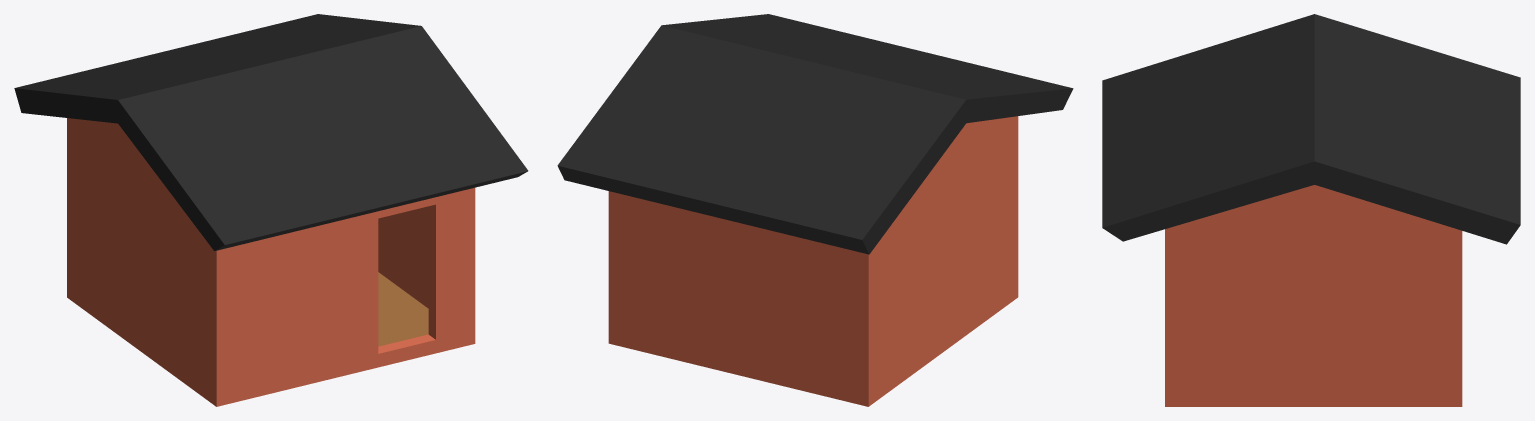
The model's file is house.fbx.
The picture shows the model from 3 angles, left to right: view 1: azimuth 30°, elevation 25°; view 2: azimuth 150°, elevation 25°; view 3: azimuth 270°, elevation 25°; orthographic projection.
Visible parts, largest first — view 1: house; view 2: house; view 3: house.
Part boxes in pixels (<box>): house: <box>14,14,528,406</box>; house: <box>557,14,1073,406</box>; house: <box>1102,14,1520,406</box>.
Bounding box in the file's own units: 470 × 380 × 564.
